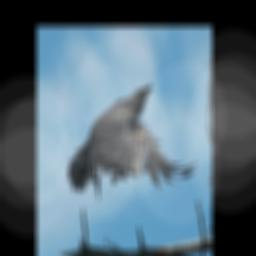Crow: (68, 82, 199, 204)
